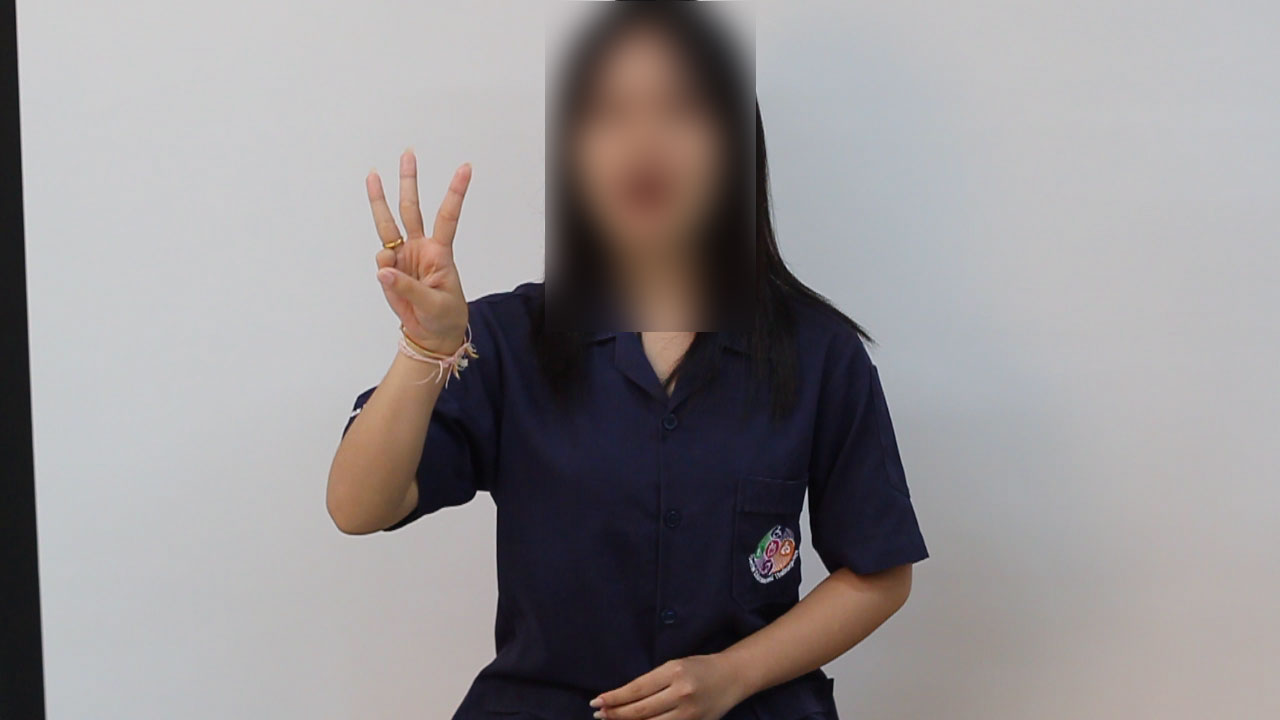wor: (355, 142, 485, 359)
